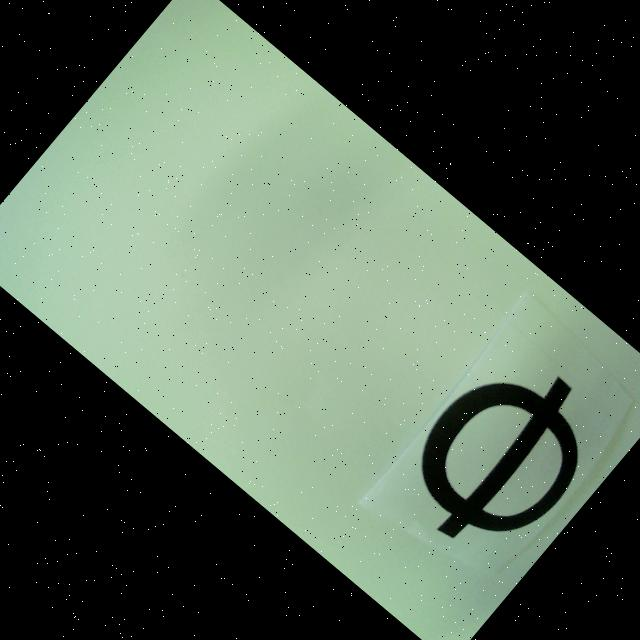PHI: (382, 333, 620, 578)
